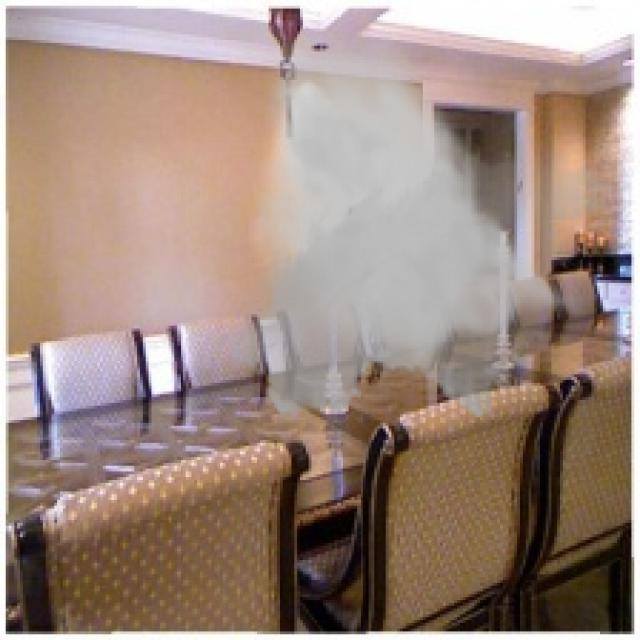Smoke: (217, 20, 617, 429)
